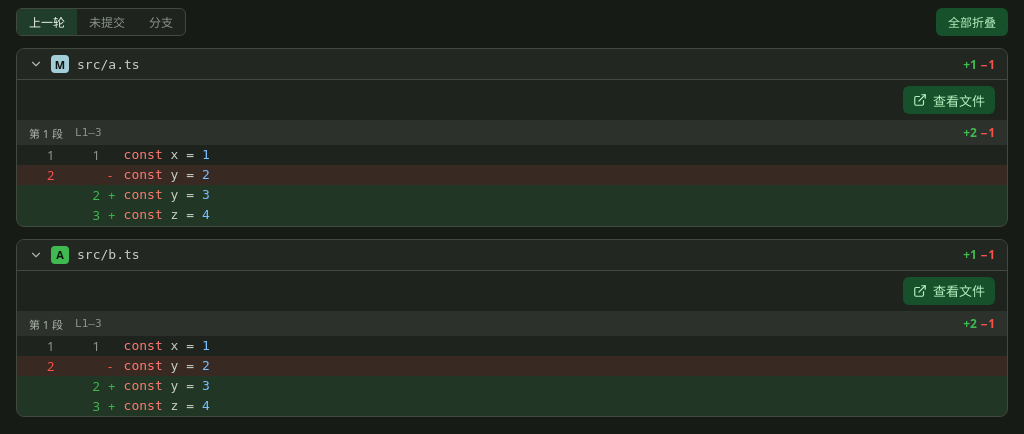
Scenario: DiffView › 全部折叠/展开：文件块一并切换；手动打开的文件行恢复
The width and height of the screenshot is (1024, 434).
全部折叠：文件块收起 → 无 hunk 头、无行
Click the button "全部折叠" at (972, 22), box [936,8,1008,36]
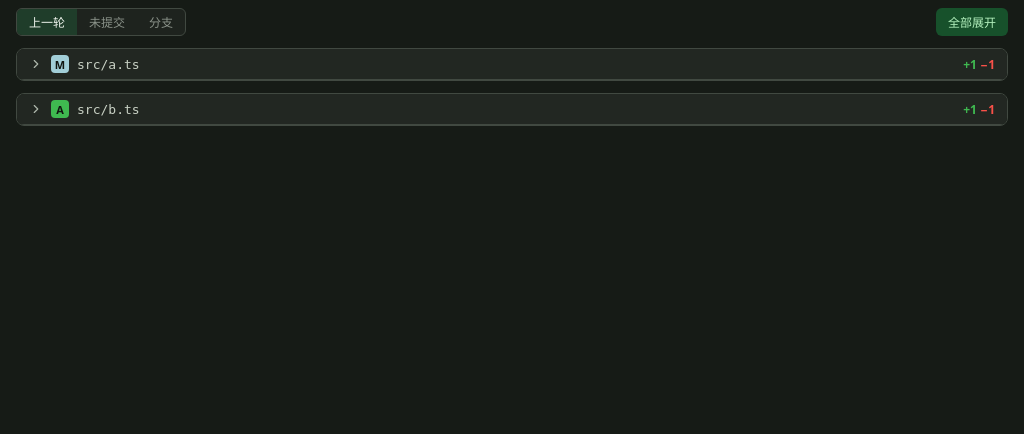
Expected: no elements with class "diff-hunk-header" are shown
Expected: no elements with class "diff-row" are shown
Expected: the button "全部折叠" is gone
手动打开文件：文件块展开 → hunk 头与行恢复
Click the text titled "src/a.ts" at (108, 64), box [77,56,140,72]
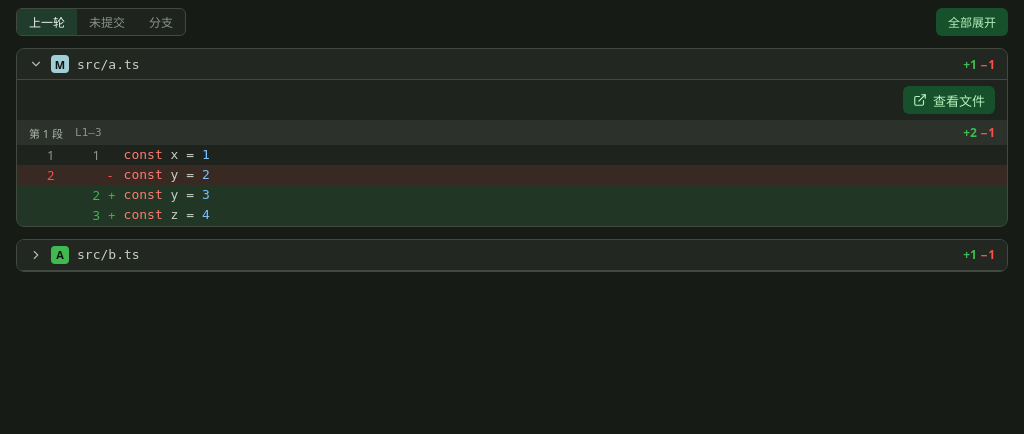
Expected: the number of elements with class "diff-hunk-header" is 1, [17,120,1007,145]
Expected: the number of elements with class "diff-row" is 4, [47,146,210,164]; [17,165,1007,185]; [17,185,1007,205]; [17,205,1007,226]
全部展开：所有行恢复
Click the button "全部展开" at (972, 22), box [936,8,1008,36]
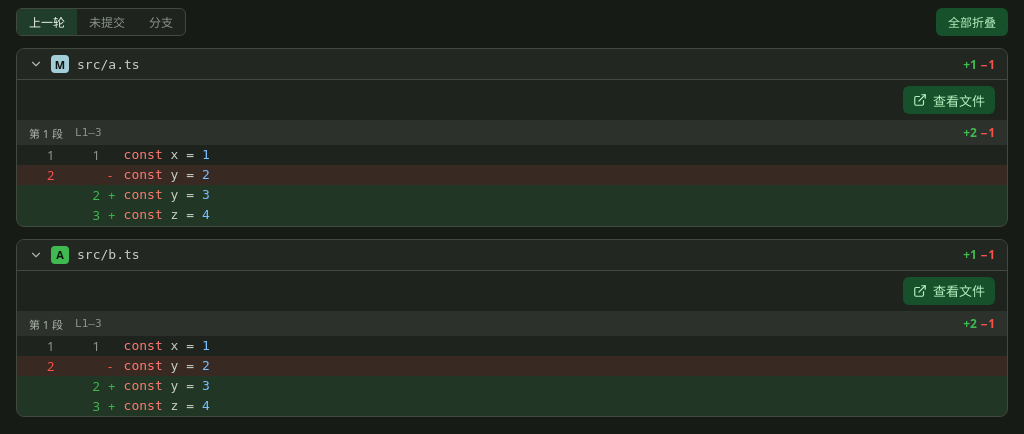
Expected: the number of elements with class "diff-row" is 8
Expected: the button "全部折叠" is shown, [936,8,1008,36]
